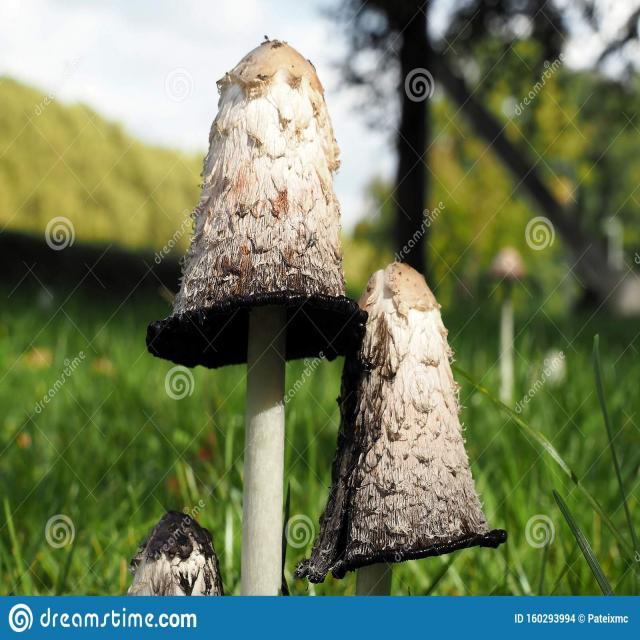Coprinus comatus: (150, 41, 370, 598), (294, 262, 511, 593)
